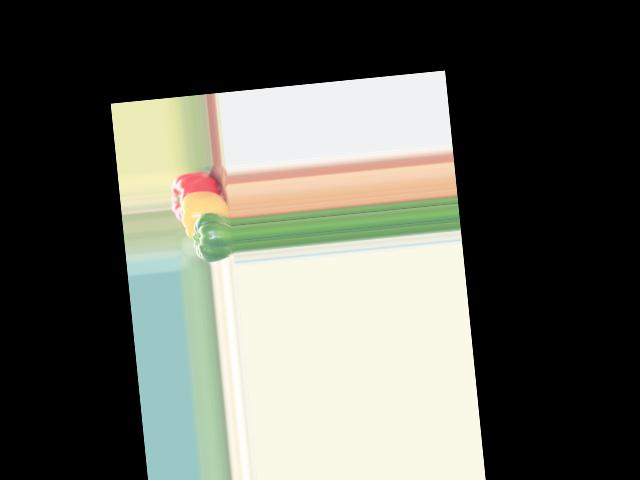bell_pepper: (169, 170, 228, 222)
